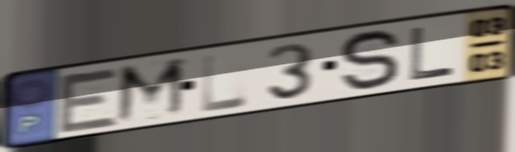3: (265, 42, 315, 101)
E: (56, 66, 122, 136)
L: (200, 50, 250, 115), (408, 24, 458, 82)
M: (113, 55, 190, 128)
S: (338, 27, 403, 95)
